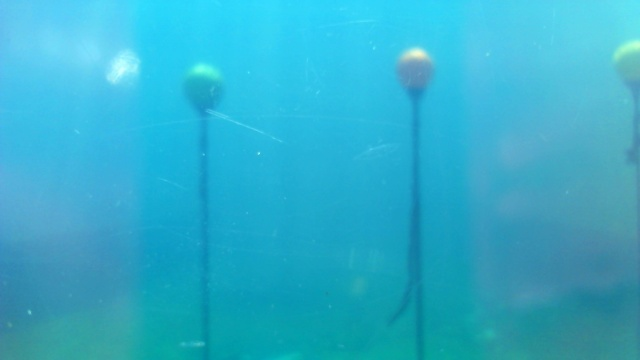buoy_green: (181, 62, 227, 114)
buoy_red: (394, 48, 431, 98)
